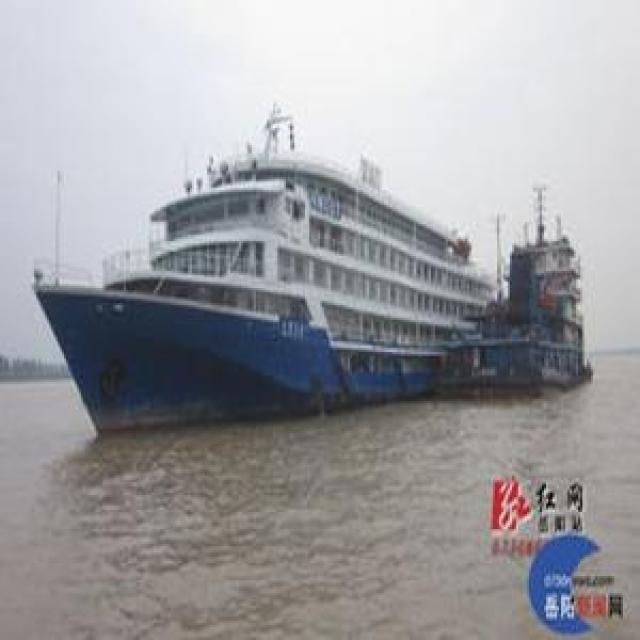passenger ship: (21, 112, 498, 432)
